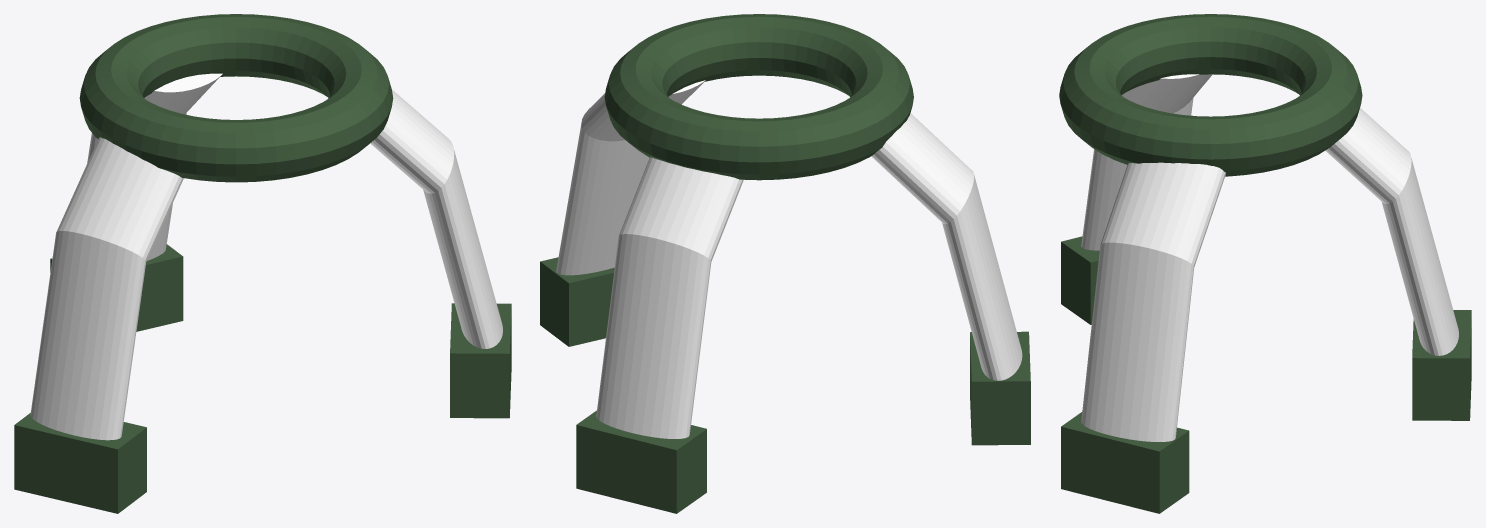
File: sentry_base.glb
The picture shows the model from 3 angles, left to right: view 1: azimuth 30°, elevation 25°; view 2: azimuth 150°, elevation 25°; view 3: azimuth 270°, elevation 25°; orthographic projection. The views are drawn at different scales.
Parts seen in each view (by area): view 1: Cylinder.001; view 2: Cylinder.001; view 3: Cylinder.001.
Boxes of the visible parts, x1,y1,x2,y2 form: Cylinder.001: (14, 14, 511, 513); Cylinder.001: (540, 14, 1030, 513); Cylinder.001: (1059, 14, 1471, 513).
Bounding box in the file's own units: 2.94 × 1.92 × 2.18.
